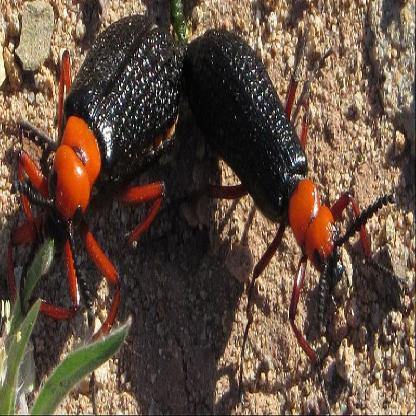beetle: (184, 26, 389, 357), (15, 4, 175, 326)
